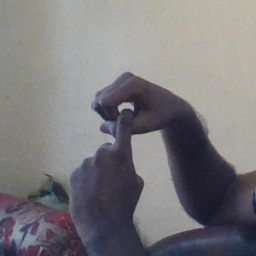Q: (63, 71, 174, 217)
